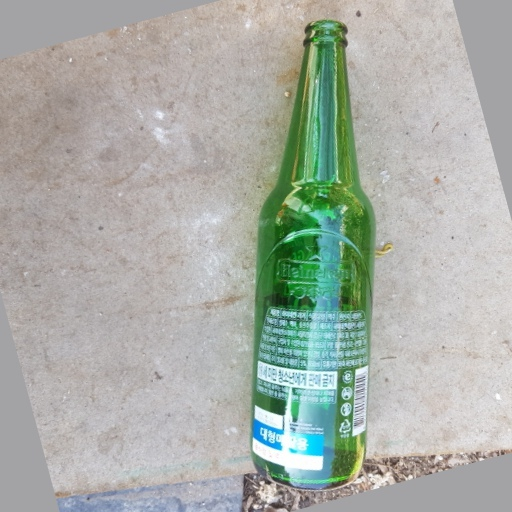Glass_1: (243, 18, 378, 489)
